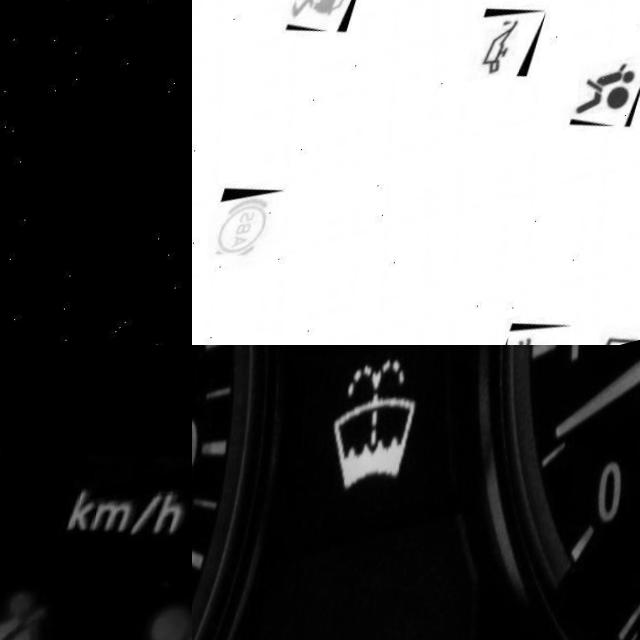Washer Fluid: (334, 369, 421, 509)
